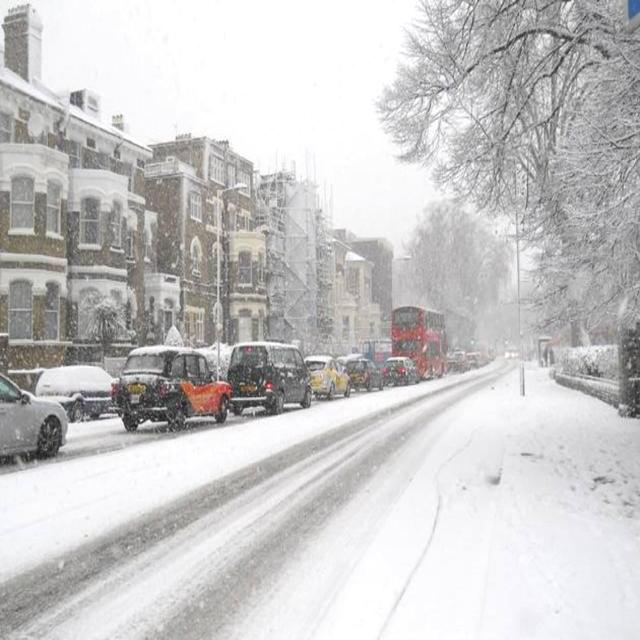Bus: (390, 306, 444, 379)
Car: (111, 346, 230, 429), (0, 368, 69, 461), (305, 355, 352, 399), (351, 358, 384, 391), (383, 356, 416, 382)
Van: (226, 344, 314, 411)
